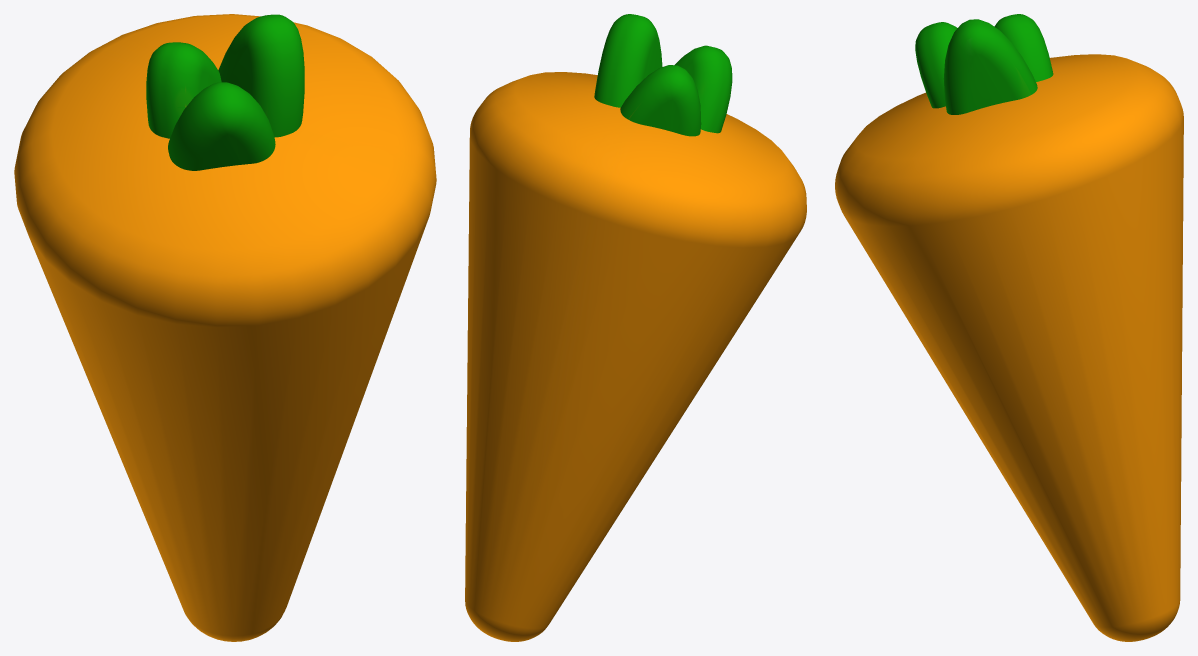
The model's file is Carrot.fbx.
3 views of the same model, side by side, from view 1: azimuth 30°, elevation 25°; view 2: azimuth 150°, elevation 25°; view 3: azimuth 270°, elevation 25° (orthographic). The views are drawn at different scales.
Parts seen in each view (by area): view 1: Carrot; view 2: Carrot; view 3: Carrot.
Boxes of the visible parts, left/top/right/bottom form: Carrot: left=14, top=14, right=436, bottom=641; Carrot: left=465, top=14, right=806, bottom=641; Carrot: left=835, top=14, right=1183, bottom=641.
Bounding box in the file's own units: 144 × 265 × 142.
1 material, 1 textured.
